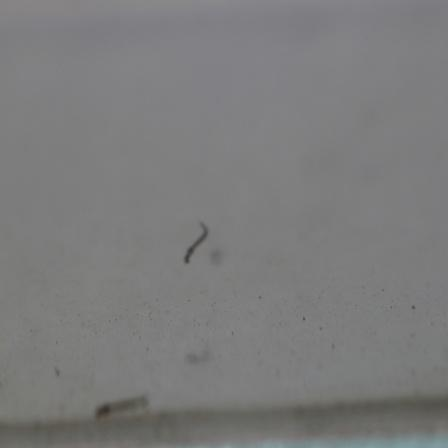Jentik-Nyamuk: (179, 220, 215, 265)
